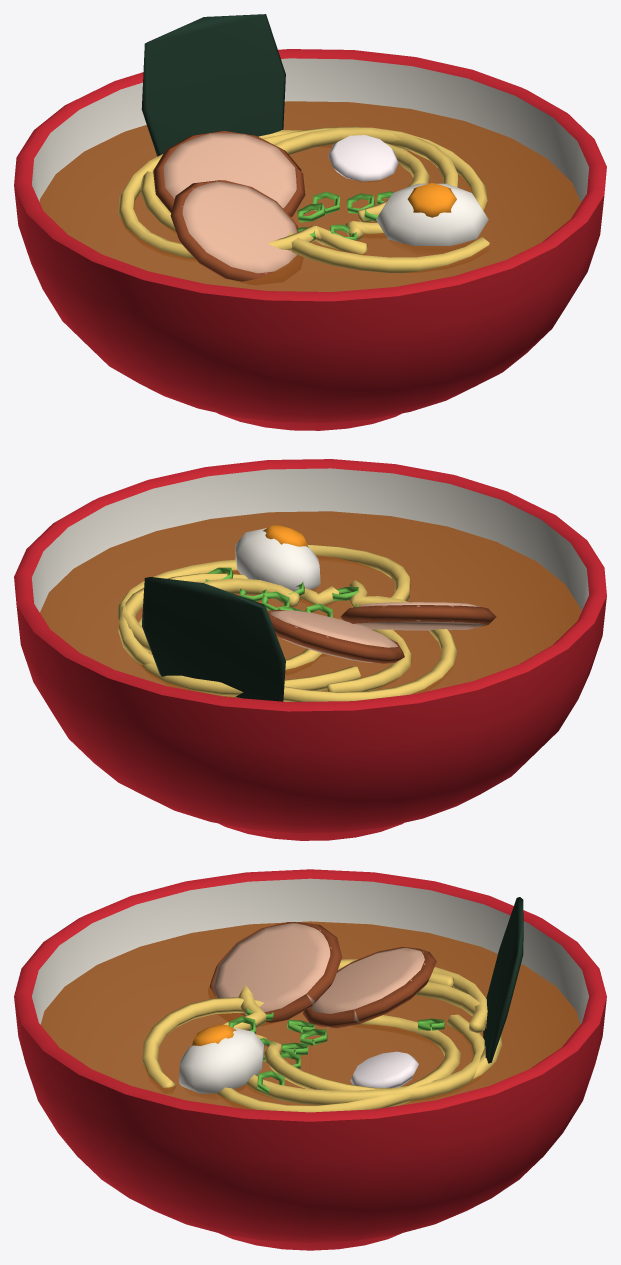
3 renders of one model, top to bottom at view 1: azimuth 30°, elevation 25°; view 2: azimuth 150°, elevation 25°; view 3: azimuth 270°, elevation 25°, orthographic.
Parts seen in each view (by area): view 1: bowl_outer, surface, bowl_inner, nori, bowl_rim, chashu, noodles, egg_white, chashu_rim, naruto, scallion, egg_yolk; view 2: bowl_outer, surface, bowl_inner, bowl_rim, noodles, nori, chashu_rim, egg_white, chashu, scallion, egg_yolk; view 3: bowl_outer, surface, bowl_inner, bowl_rim, noodles, chashu, chashu_rim, egg_white, nori, scallion, naruto, egg_yolk.
Part boxes in pixels (x1,y1,x2,y2): bowl_outer: [14, 186, 604, 430]; surface: [39, 101, 580, 291]; bowl_inner: [32, 58, 588, 202]; nori: [141, 14, 285, 156]; bowl_rim: [14, 49, 606, 301]; chashu: [163, 133, 296, 274]; noodles: [118, 127, 489, 272]; egg_white: [376, 183, 488, 245]; chashu_rim: [153, 130, 305, 281]; naruto: [328, 135, 398, 181]; scallion: [297, 191, 393, 240]; egg_yolk: [407, 183, 456, 217]; bowl_outer: [16, 596, 606, 840]; surface: [40, 511, 581, 698]; bowl_inner: [31, 468, 588, 612]; bowl_rim: [14, 459, 606, 711]; noodles: [117, 544, 457, 701]; nori: [141, 577, 285, 701]; chashu_rim: [268, 605, 496, 663]; egg_white: [235, 528, 320, 591]; chashu: [270, 602, 485, 662]; scallion: [205, 567, 358, 617]; egg_yolk: [263, 525, 308, 547]; bowl_outer: [14, 997, 606, 1250]; surface: [40, 921, 580, 1109]; bowl_inner: [32, 878, 588, 1024]; bowl_rim: [14, 869, 606, 1121]; noodles: [142, 959, 502, 1112]; chashu: [212, 922, 425, 1022]; chashu_rim: [210, 922, 436, 1028]; egg_white: [179, 1027, 263, 1093]; nori: [483, 897, 523, 1063]; scallion: [228, 1008, 444, 1093]; naruto: [350, 1051, 418, 1088]; egg_yolk: [190, 1024, 236, 1047].
Bounding box in the file's own units: 0.2 × 0.1051 × 0.2.
